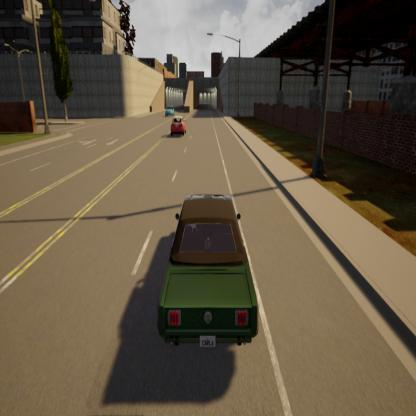Cars: (150, 182, 264, 361), (167, 115, 188, 140), (164, 102, 175, 119)
